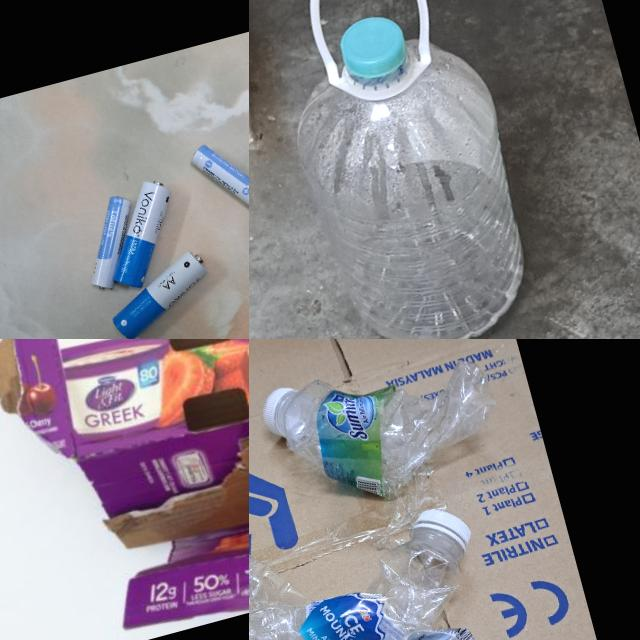bateria: (89, 174, 192, 294), (99, 244, 221, 339), (68, 190, 152, 294), (189, 129, 249, 229)
garrafa plástica: (274, 24, 552, 339), (257, 339, 511, 523), (249, 489, 496, 640)
papelão: (249, 339, 640, 640), (0, 339, 249, 640)
tampa plástica: (334, 8, 412, 82), (406, 498, 474, 562), (258, 386, 308, 442)
